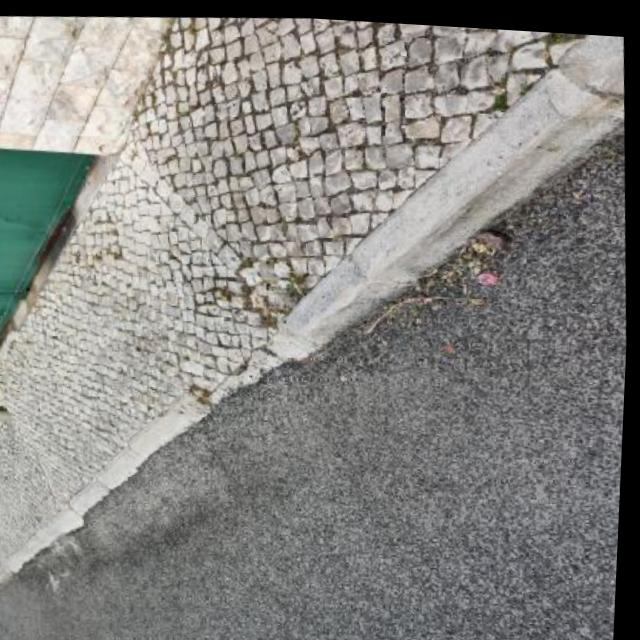plastic: (477, 273, 499, 289)
